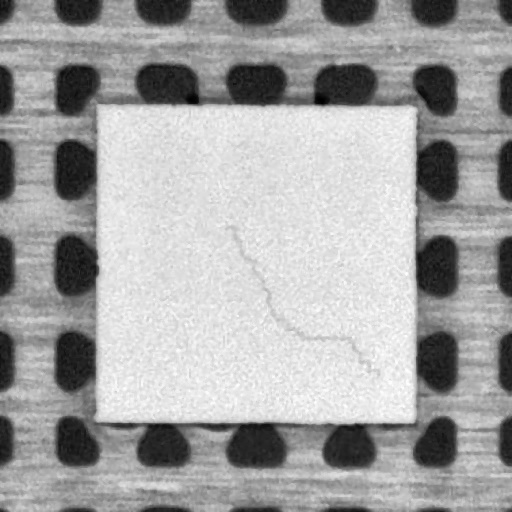DIE_CRACK: (224, 224, 386, 384)
